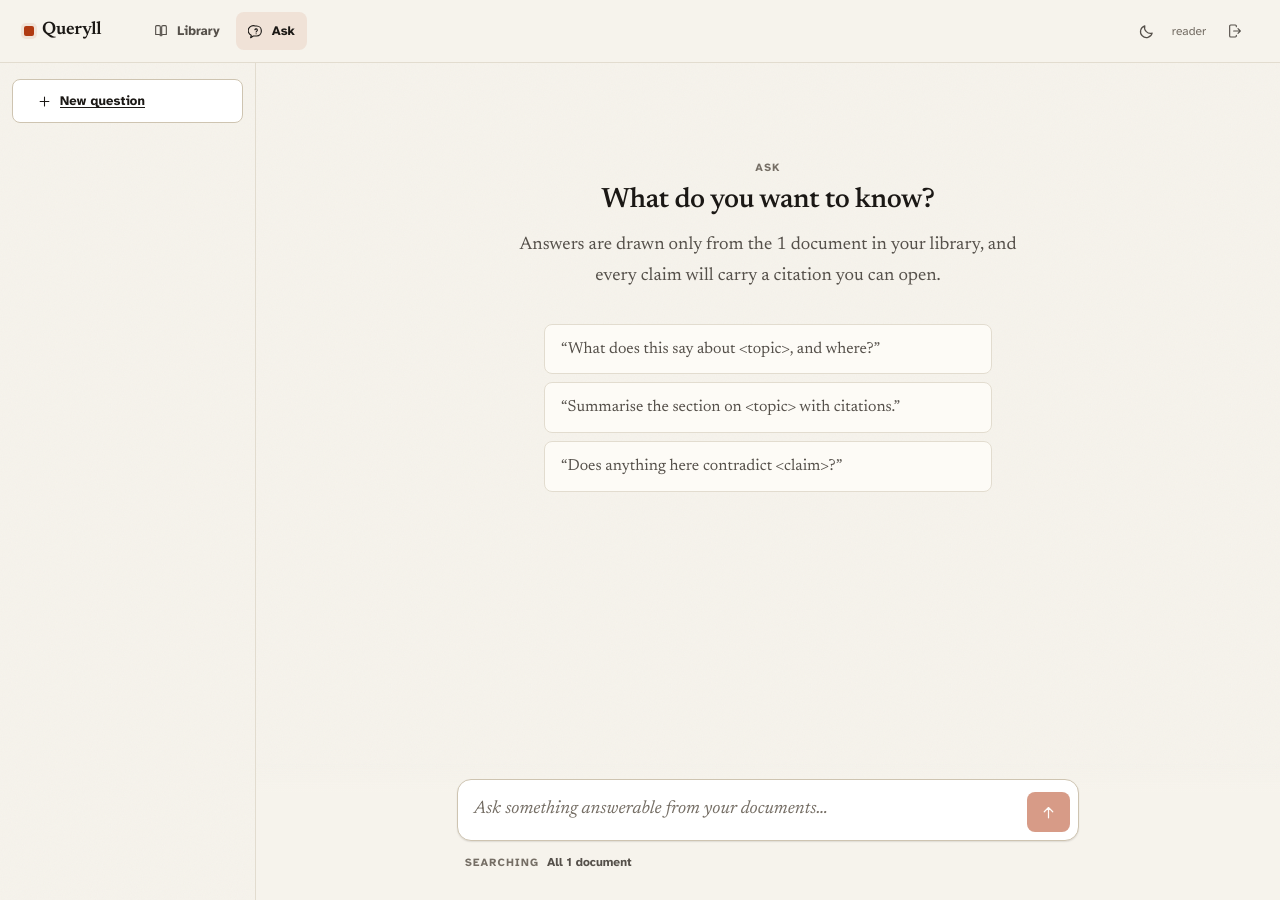
Scenario: the answer stream › renders a [n] marker as a citation chip that opens the passage by chunk_id
Type "How is the sample stratified?" into the text box named "Your question" at (743, 810), box [466, 788, 1019, 832]
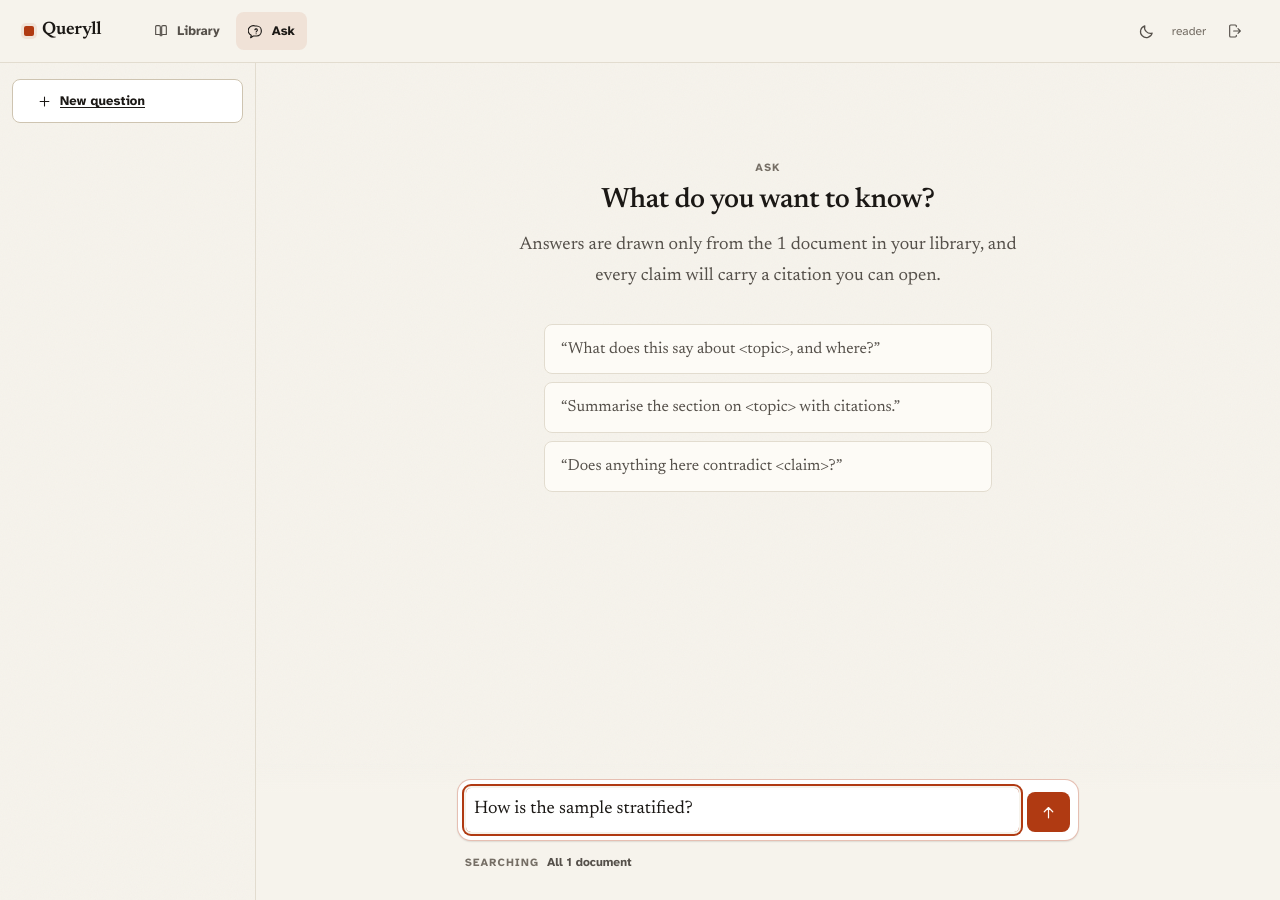
Click the button named "Ask" at (1048, 812), box [1027, 792, 1070, 832]
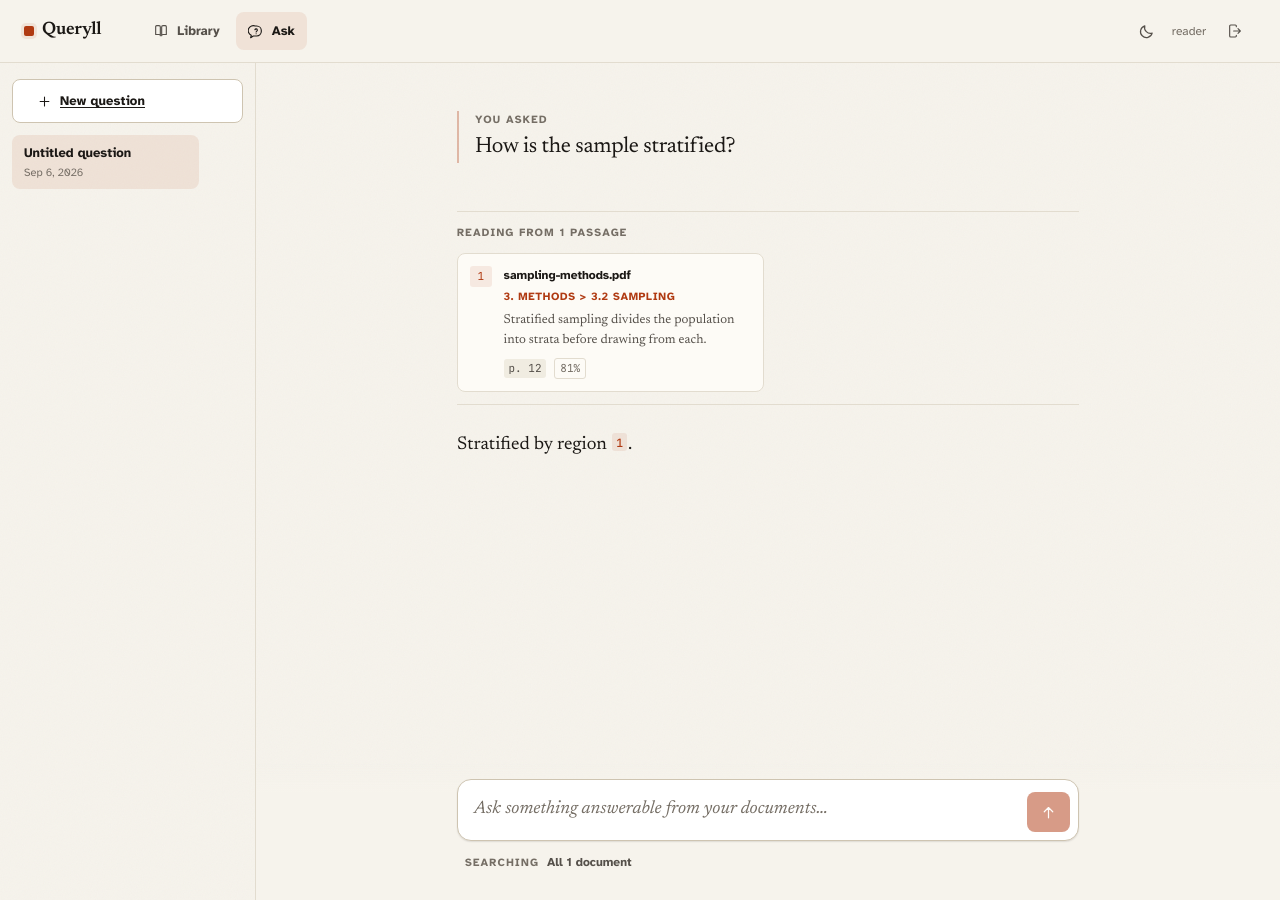
Click the button "1" at (620, 442), box [612, 433, 627, 451]
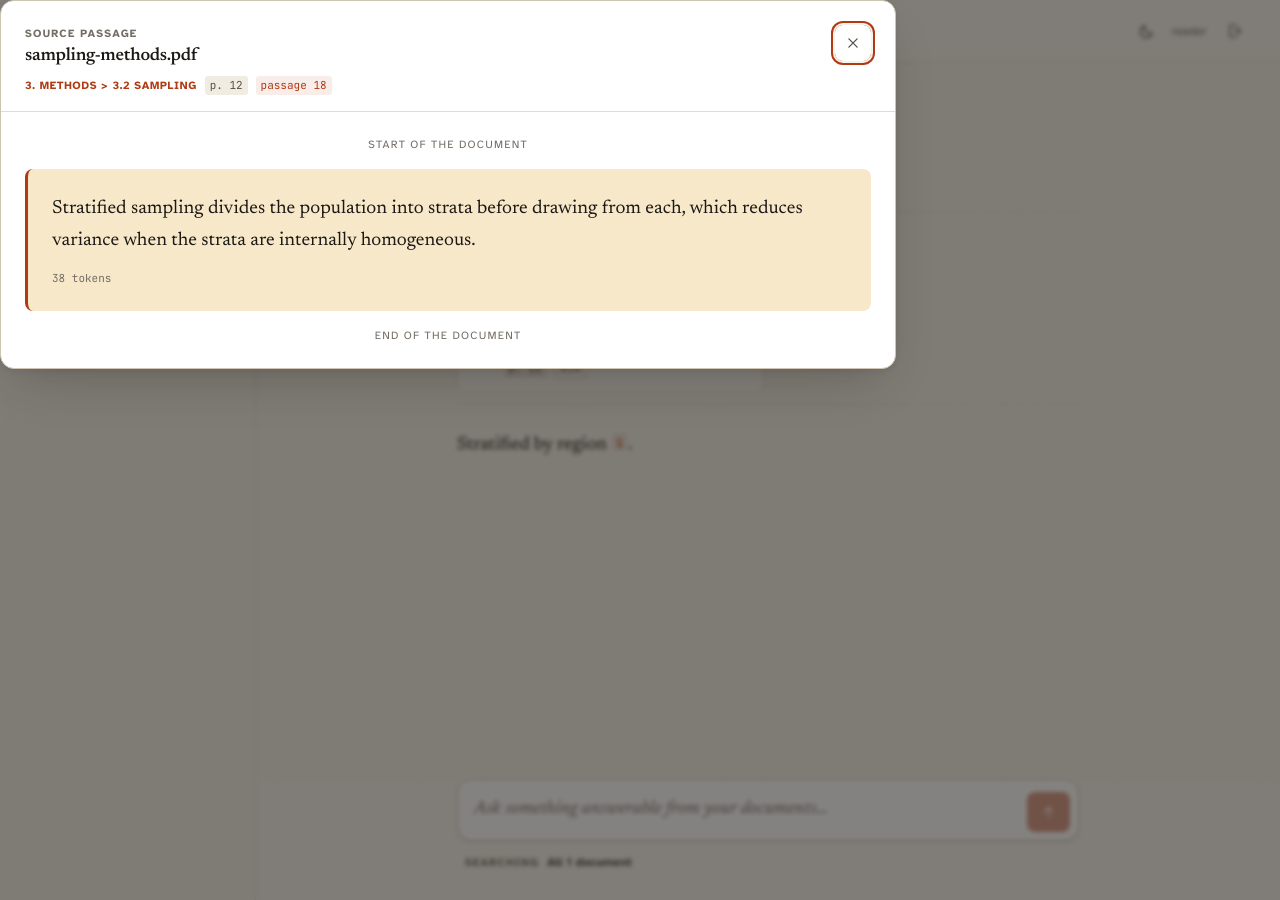
Expected: the text "reduces variance" is shown, [52, 199, 807, 250]
